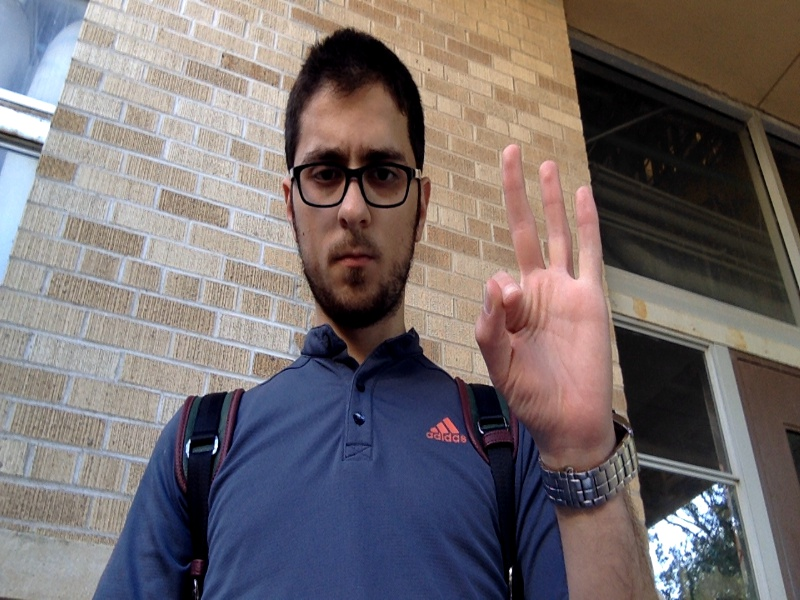3-hand: (482, 146, 613, 446)
